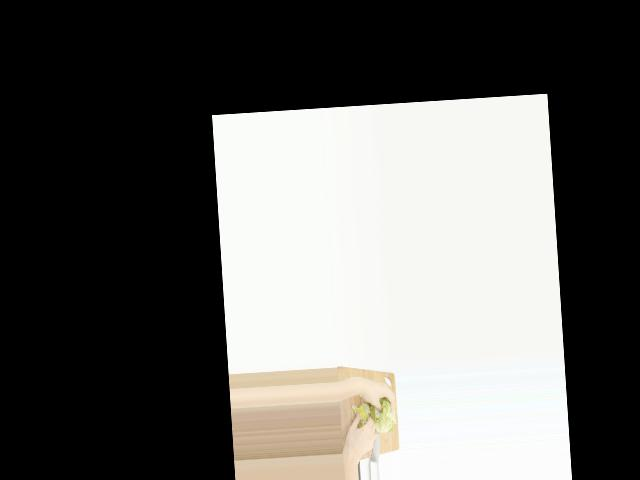lettuce: (370, 399, 395, 434)
